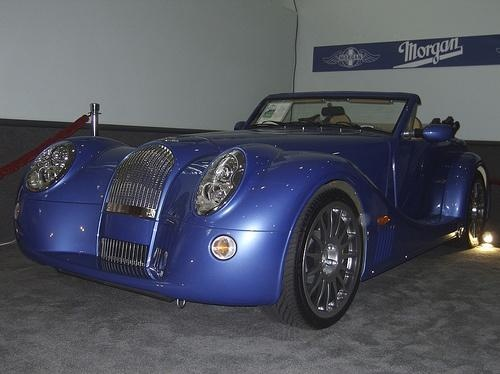car: (15, 87, 496, 330)
